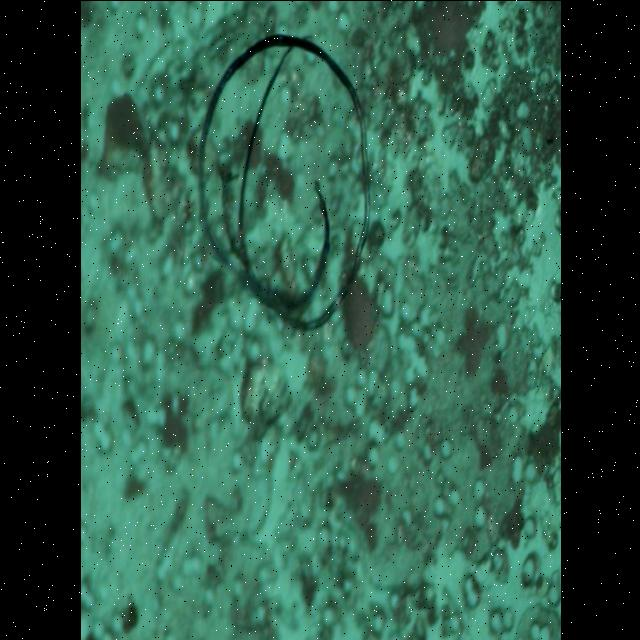Fibre: (196, 31, 370, 332)
